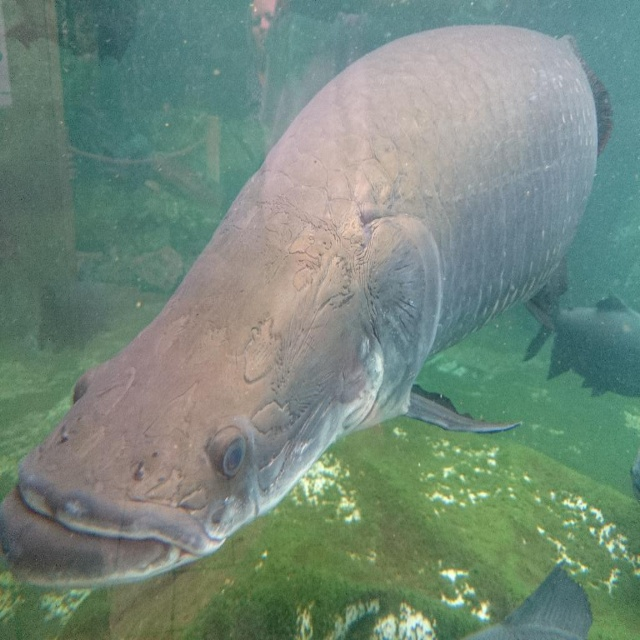Fish: (0, 22, 616, 590), (522, 286, 640, 400), (464, 558, 596, 640)
